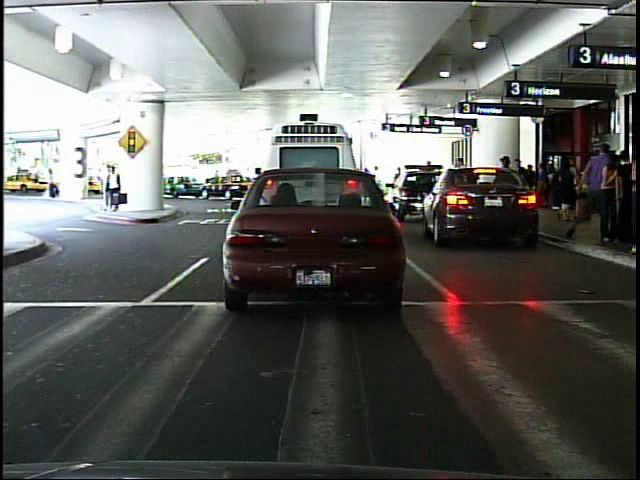person: (95, 157, 130, 214), (48, 164, 63, 203)
